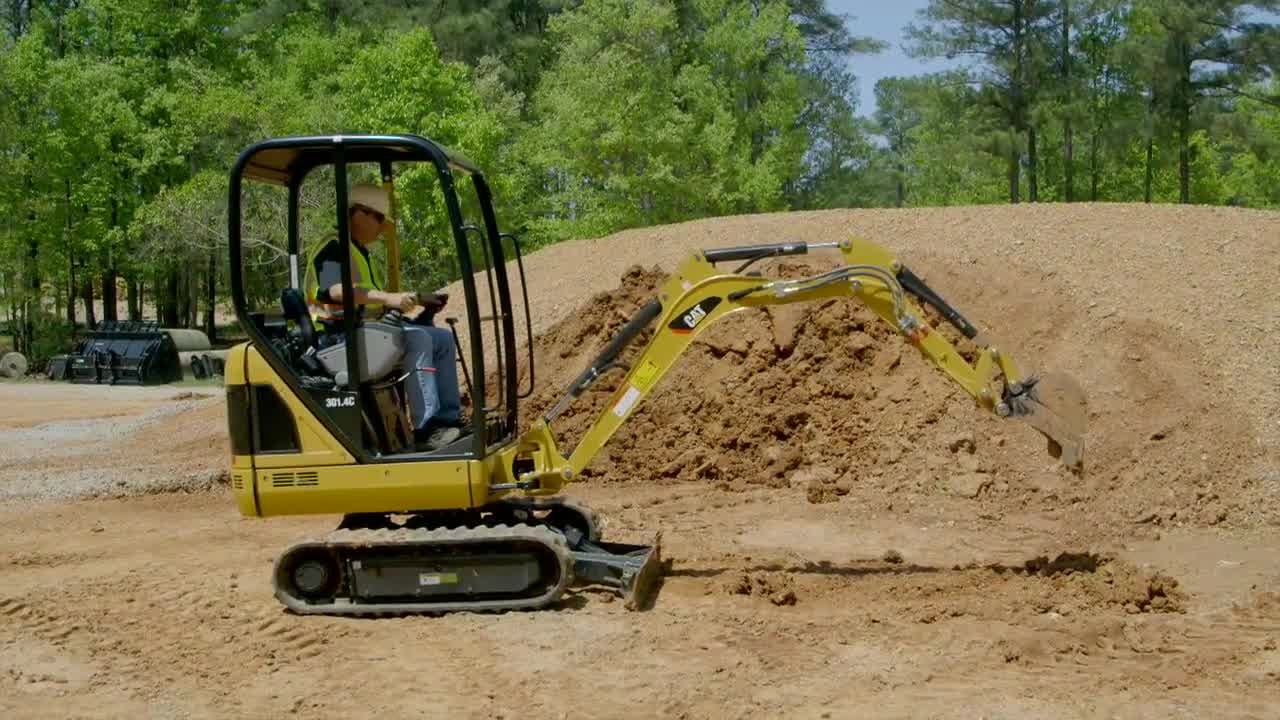attachment-bucket: (1008, 366, 1098, 481)
cabin: (218, 132, 538, 516)
forearm: (844, 237, 1007, 410)
upperarm: (556, 271, 871, 488)
wheelbase: (264, 500, 600, 614)
